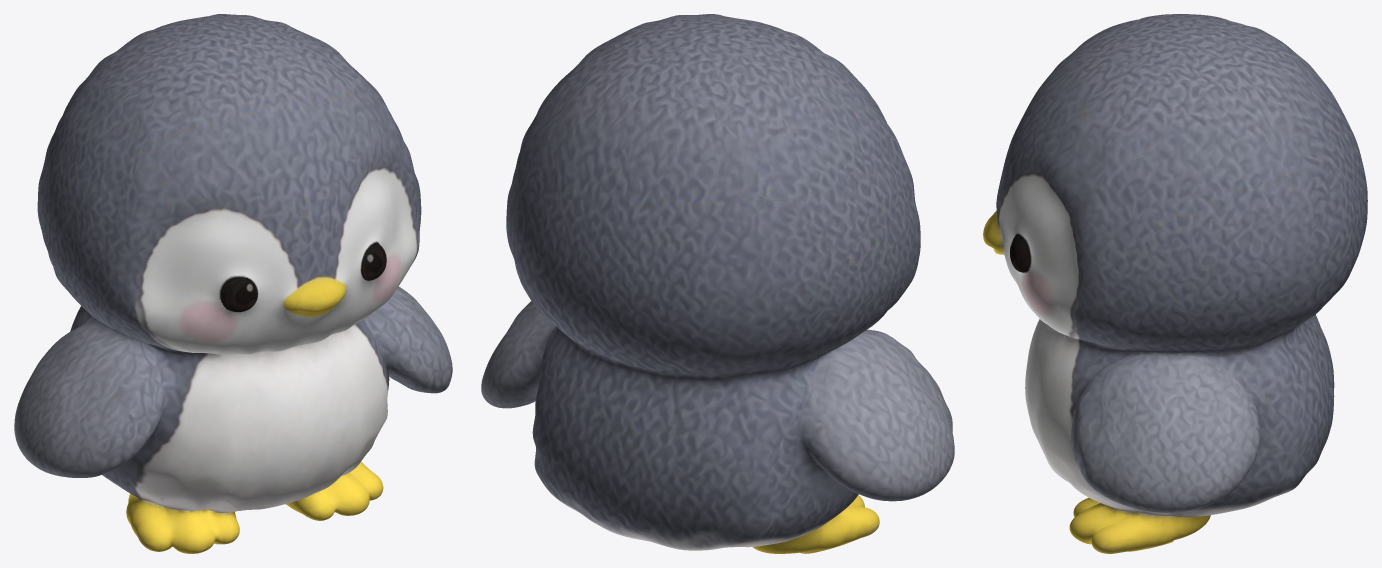
Rendered from penguin_gray.glb.
The picture shows the model from 3 angles, left to right: view 1: azimuth 30°, elevation 25°; view 2: azimuth 150°, elevation 25°; view 3: azimuth 270°, elevation 25°; orthographic projection. The views are drawn at different scales.
Size of the model in its own units: 1.73 by 1.9 by 1.4.
Materials: 1 (1 with a texture image).
